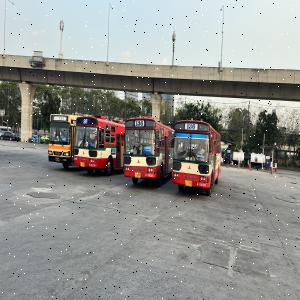BMTA-bus: (172, 119, 223, 197), (124, 116, 174, 188), (68, 115, 126, 176), (47, 114, 74, 170)
Bus Line Number: (186, 122, 197, 130), (134, 121, 146, 127), (82, 118, 89, 125), (58, 116, 65, 121)
Bus Side Number: (197, 182, 206, 188), (144, 173, 153, 177), (88, 163, 95, 168), (62, 158, 67, 162)
Destination Sign: (195, 153, 206, 162), (143, 146, 152, 155), (89, 142, 96, 148), (62, 137, 67, 142)
